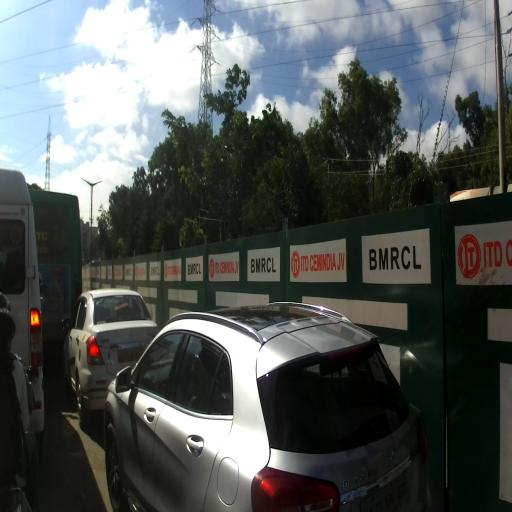street_light_0: (81, 178, 93, 188), (91, 180, 102, 188)
